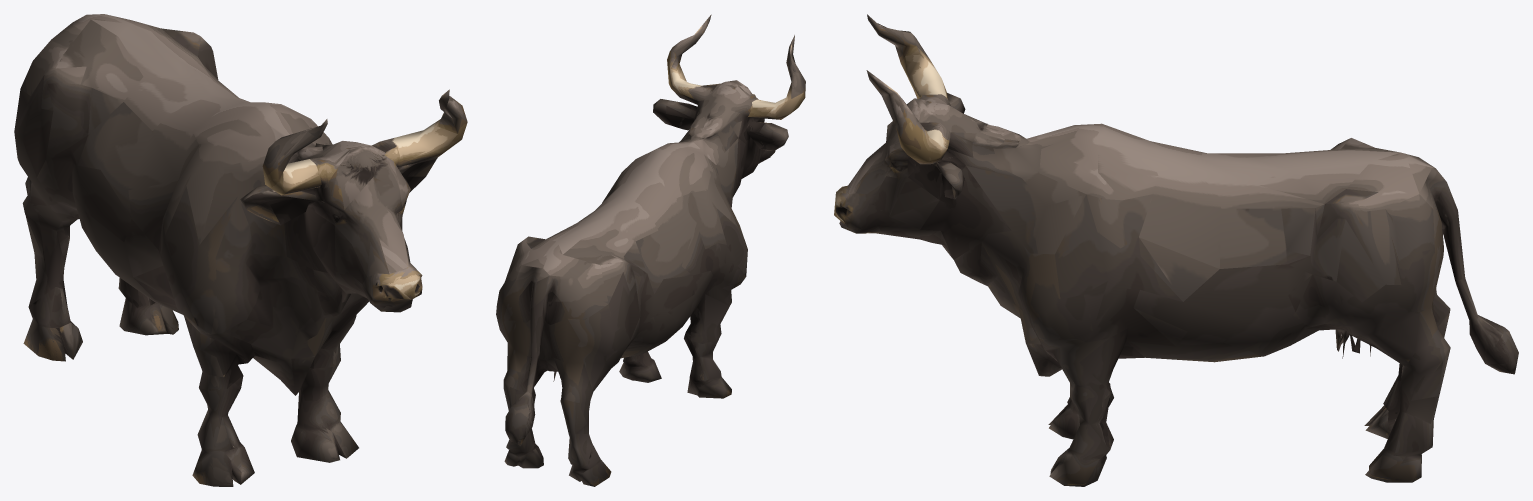
The model's file is bull.fbx.
The picture shows the model from 3 angles, left to right: view 1: azimuth 30°, elevation 25°; view 2: azimuth 150°, elevation 25°; view 3: azimuth 270°, elevation 25°; orthographic projection. The views are drawn at different scales.
Parts seen in each view (by area): view 1: Mesh_0; view 2: Mesh_0; view 3: Mesh_0.
Boxes of the visible parts, x1,y1,x2,y2 form: Mesh_0: (14,14,467,486); Mesh_0: (496,14,805,486); Mesh_0: (834,14,1518,486).
Bounding box in the file's own units: 93.85 × 198 × 300.
Materials: 1 (1 with a texture image).
